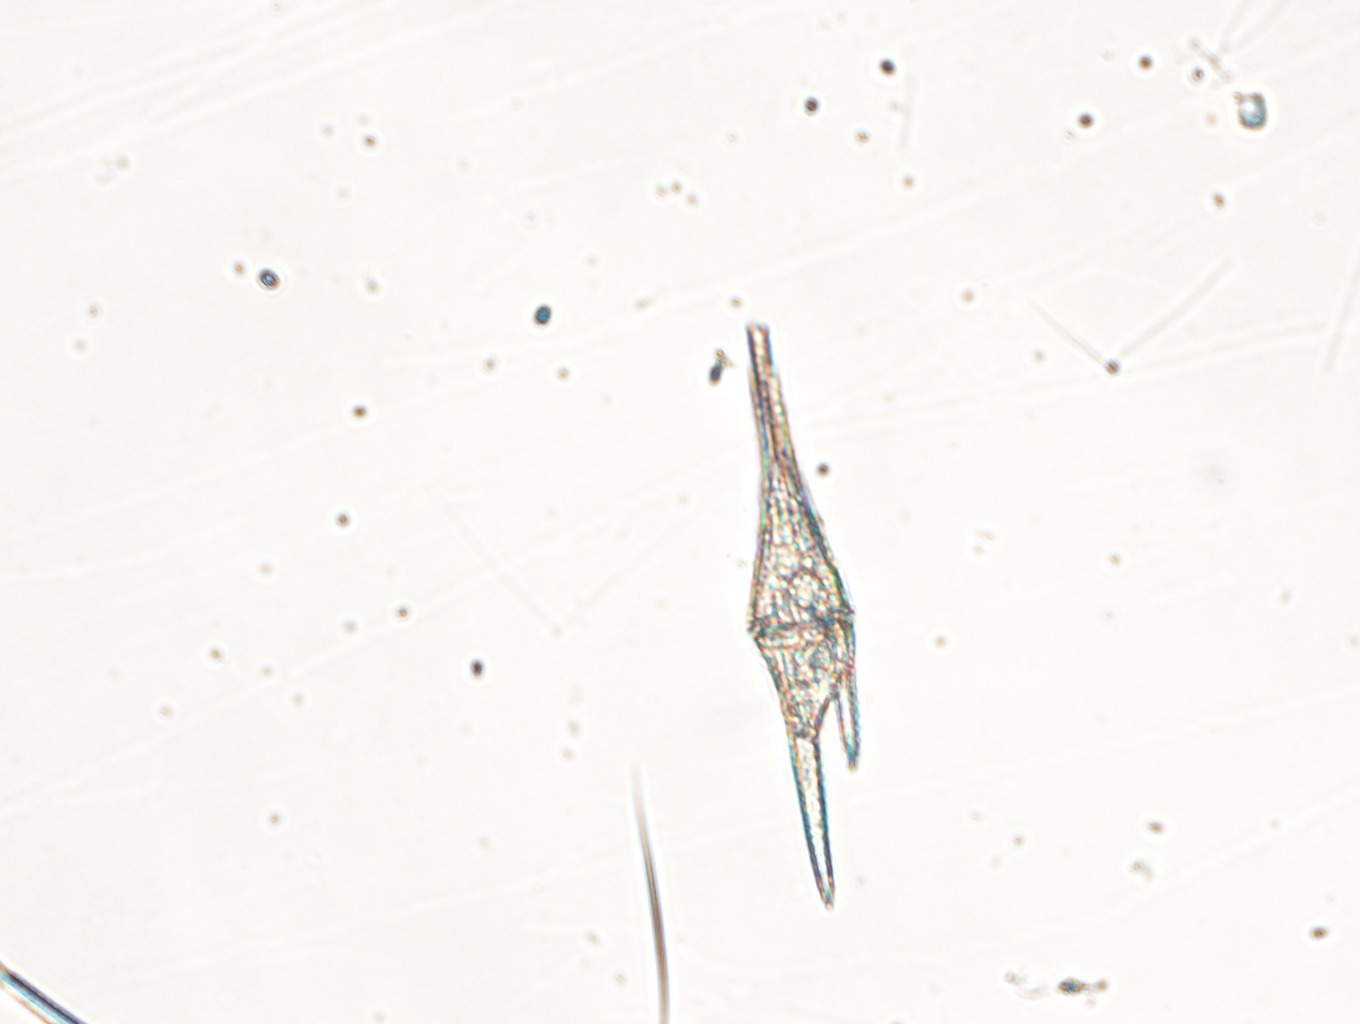ceratium furca: (746, 319, 862, 913)
